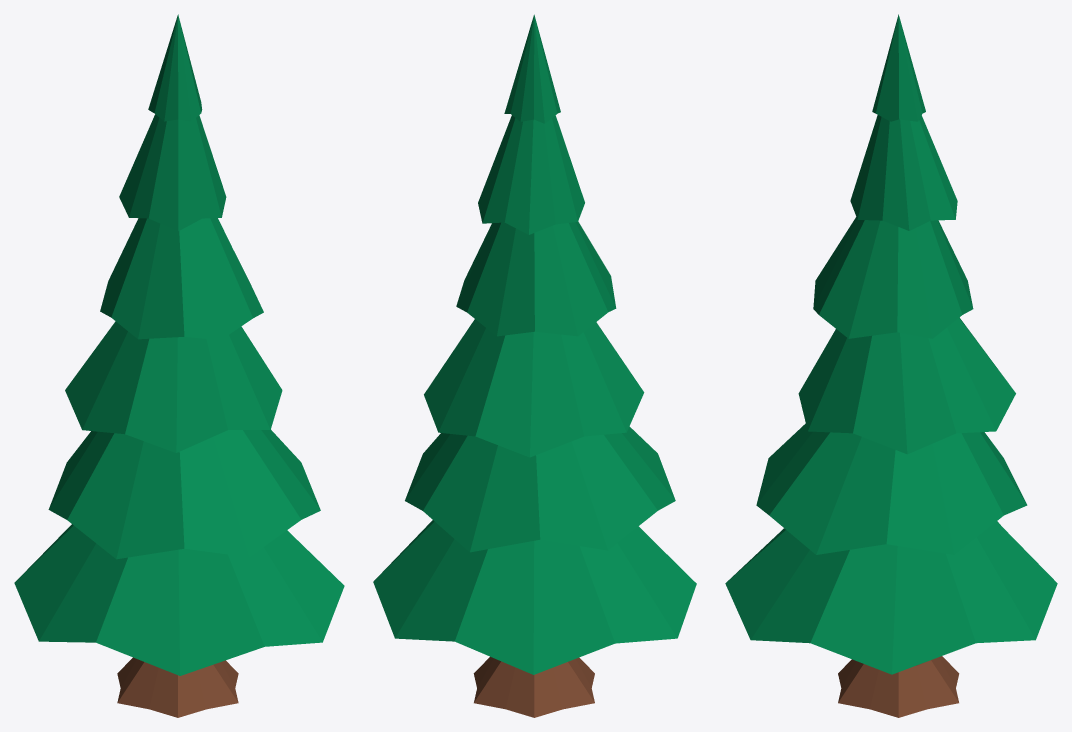
Rendered from Pinheiro.fbx.
3 renders of one model, left to right at view 1: azimuth 30°, elevation 25°; view 2: azimuth 150°, elevation 25°; view 3: azimuth 270°, elevation 25°, orthographic.
Parts seen in each view (by area): view 1: Pinheiro; view 2: Pinheiro; view 3: Pinheiro.
Boxes of the visible parts, x1,y1,x2,y2 form: Pinheiro: [14, 14, 344, 717]; Pinheiro: [373, 14, 696, 717]; Pinheiro: [725, 14, 1057, 717].
Size of the model in its own units: 348 by 793 by 354.
